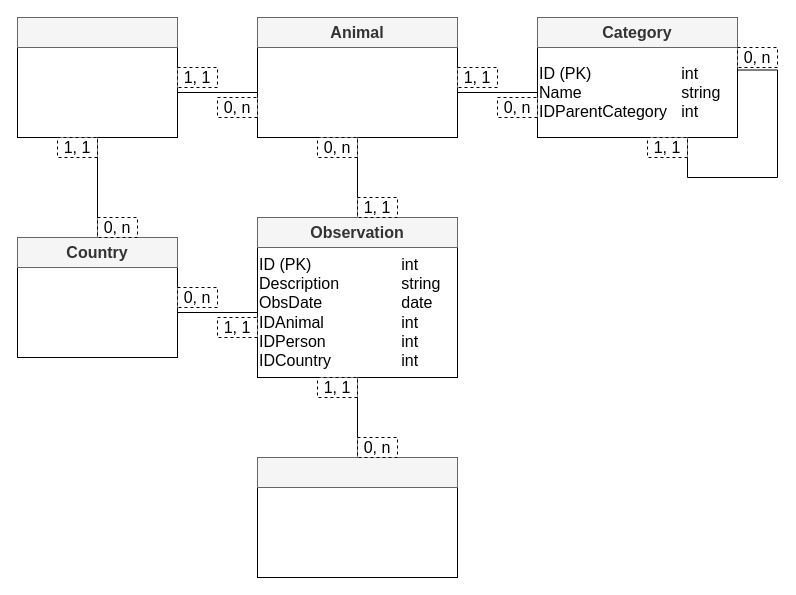
The diagram is 796 pixels wide and 595 high, and some of its shapes have lost their labels. Each missing label, with the box of its shape:
AnimalCountry: (16, 16, 178, 48)
ID (PK) int IDAnimal int IDCountry int: (16, 46, 178, 138)
ID (PK) int LastName string FirstName string Sex int: (256, 486, 458, 578)
ID (PK) int Name string Description string IDCategory int: (256, 46, 458, 138)
ID (PK) int Name string FlagLink string: (16, 266, 178, 358)
Person: (256, 456, 458, 488)
